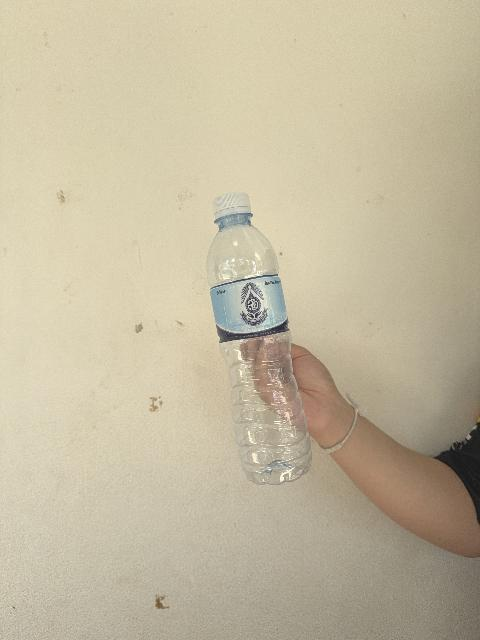bottle: (207, 193, 311, 484)
